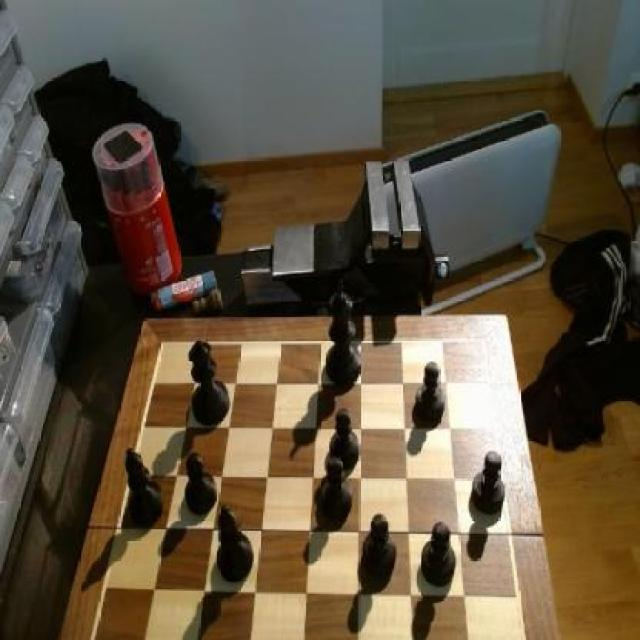bishop: (120, 446, 166, 529), (214, 503, 257, 585)
black-bishop: (322, 280, 362, 389)
black-knight: (468, 448, 507, 522), (362, 512, 398, 583), (420, 522, 456, 592), (182, 452, 219, 516), (321, 454, 354, 521), (414, 360, 448, 424), (328, 408, 360, 470)
black-pawn: (186, 338, 231, 428)
